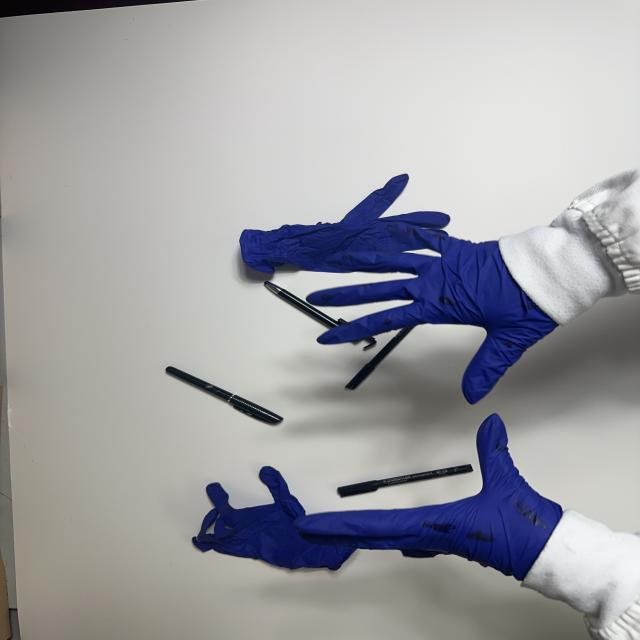gloves_contaminated: (295, 414, 562, 581), (309, 232, 557, 404)
